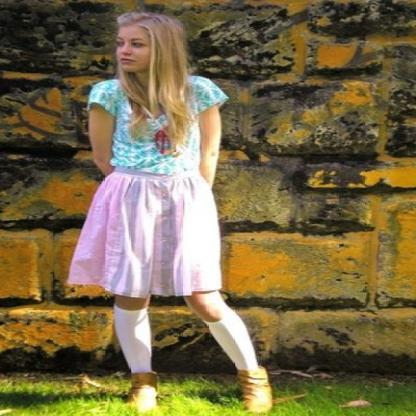shirt: (88, 76, 228, 186)
shoe: (127, 358, 269, 412)
skirt: (66, 172, 222, 307)
